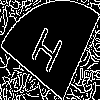H: (25, 25, 65, 83)
